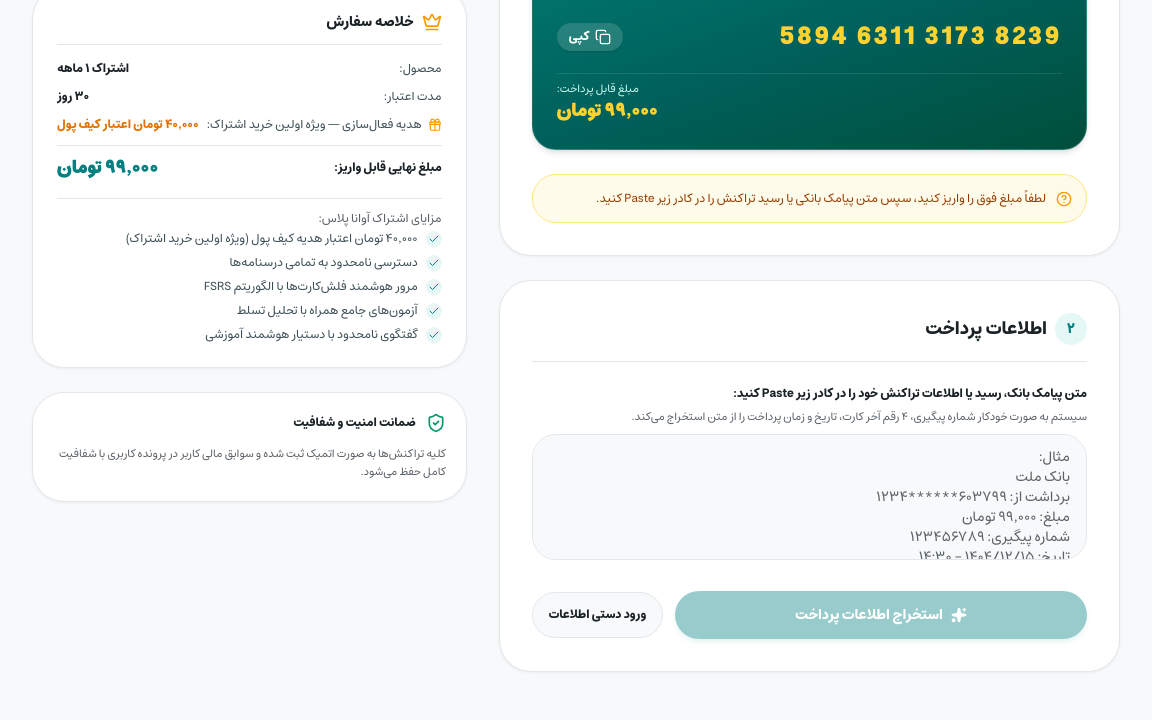
Test case: Pricing & Card-to-Card UX Refactor Suite › 6. Extraction failure shows error alert and gracefully switches to manual entry mode
(page scrolled)
Replace the text in the text box with placeholder "بانک ملت" with "متن نامعتبر و ناخوانا" at (809, 497), box [532,434,1087,560]
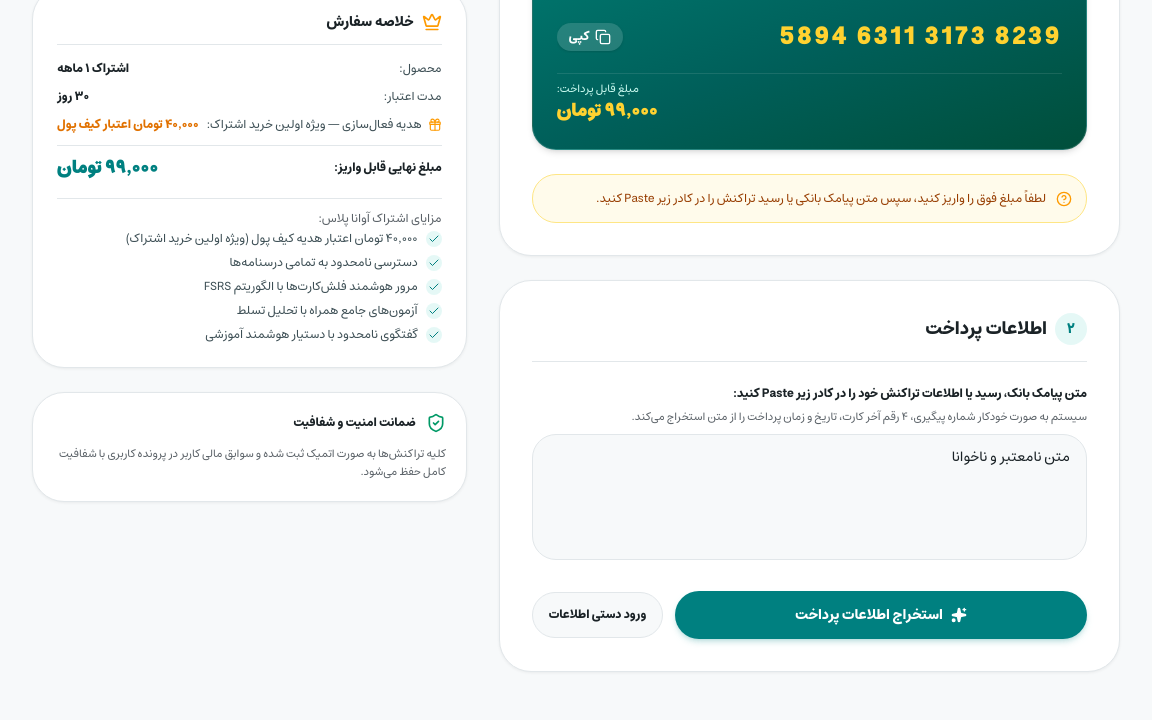
Click the button "استخراج اطلاعات پرداخت" at (881, 615), box [675,591,1087,639]
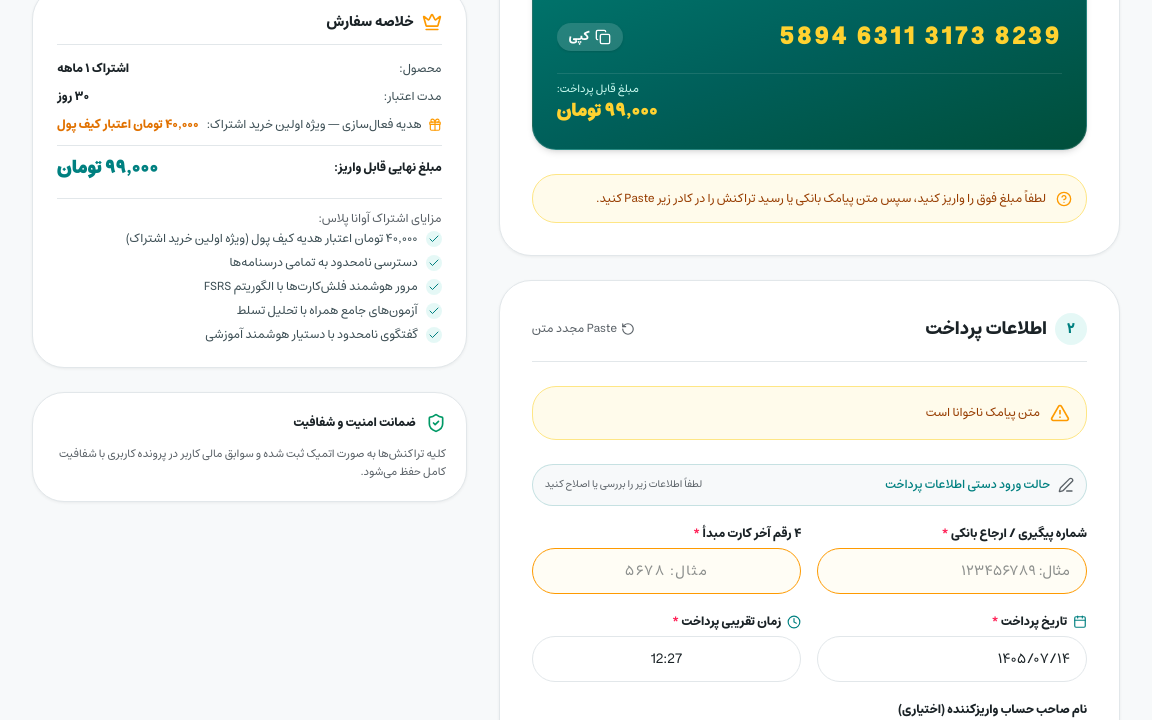
Check: the text "متن پیامک ناخوانا است" is shown, box [926,405,1040,421]
Check: the text "حالت ورود دستی اطلاعات پرداخت" is shown, box [885,477,1050,493]
